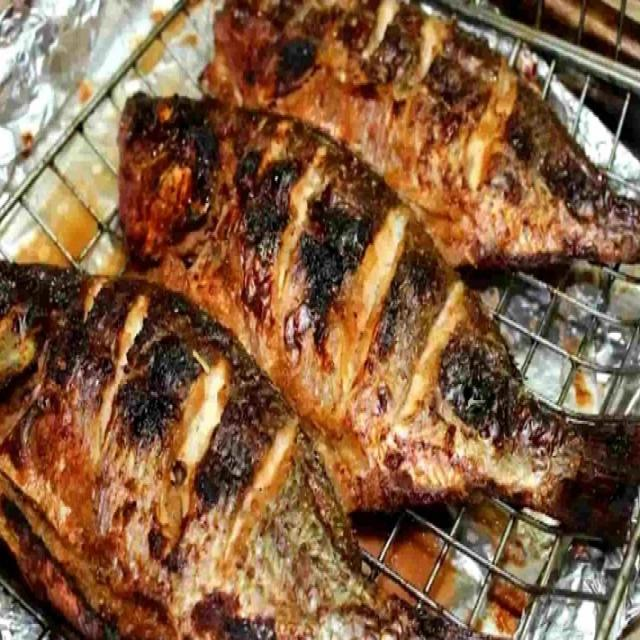Peixe: (116, 86, 584, 518), (1, 256, 428, 637), (198, 0, 638, 272)
